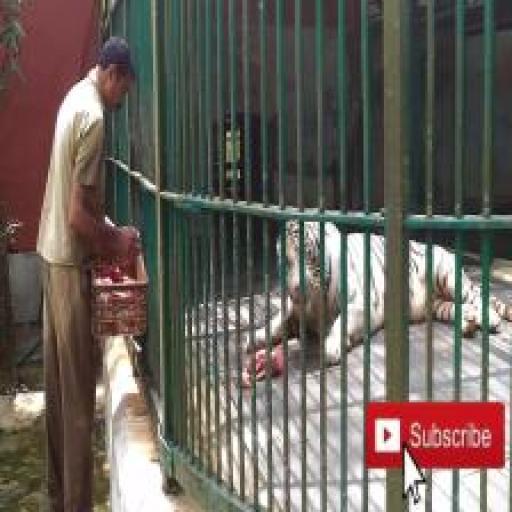Tiger: (242, 212, 511, 374)
